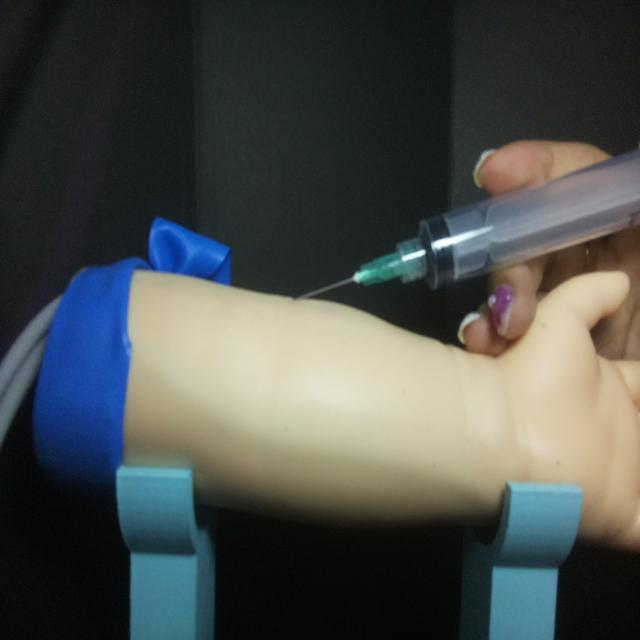15deg: (291, 142, 640, 304)
